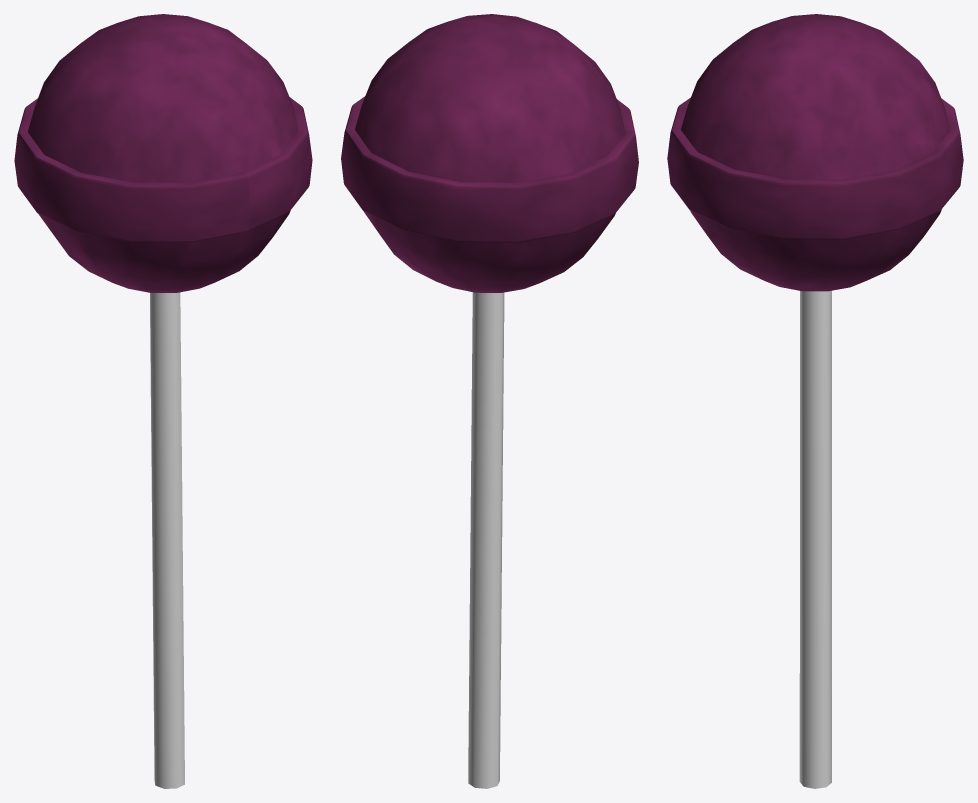
The model's file is PERMEN E.fbx.
The picture shows the model from 3 angles, left to right: view 1: azimuth 30°, elevation 25°; view 2: azimuth 150°, elevation 25°; view 3: azimuth 270°, elevation 25°; orthographic projection.
Visible parts, largest first — view 1: Diorama.033; view 2: Diorama.033; view 3: Diorama.033.
Boxes of the visible parts, <box> form: Diorama.033: <box>14,14,312,788</box>; Diorama.033: <box>341,14,638,788</box>; Diorama.033: <box>667,14,963,788</box>.
Size of the model in its own units: 314 by 112 by 112.
Materials: 1 (1 with a texture image).
